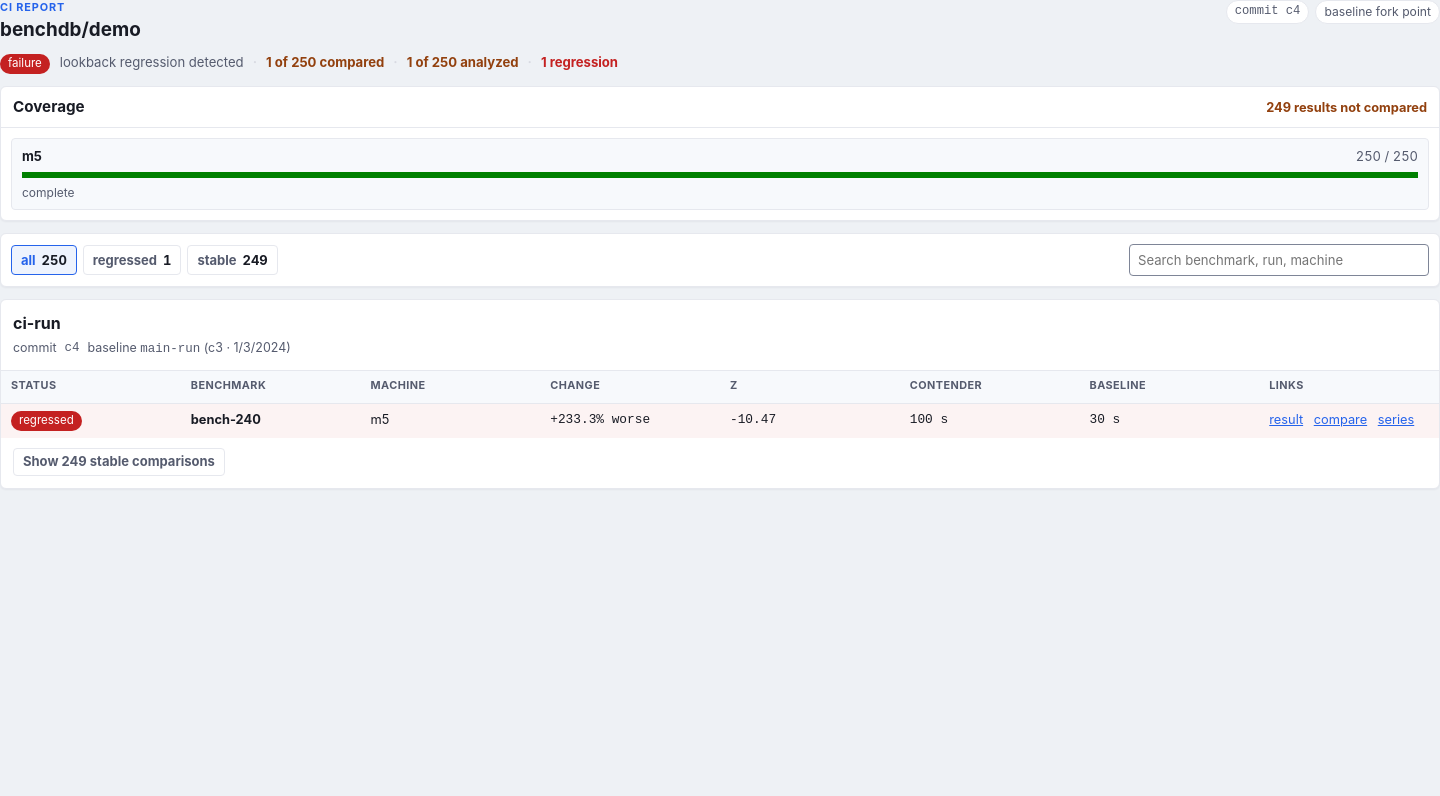
Scenario: CIReportPage › lists a regression first and collapses stable rows behind a toggle
The width and height of the screenshot is (1440, 796).
Click the button "Show 249 stable comparisons" at (119, 462), box x1=13 y1=448 x2=225 y2=476
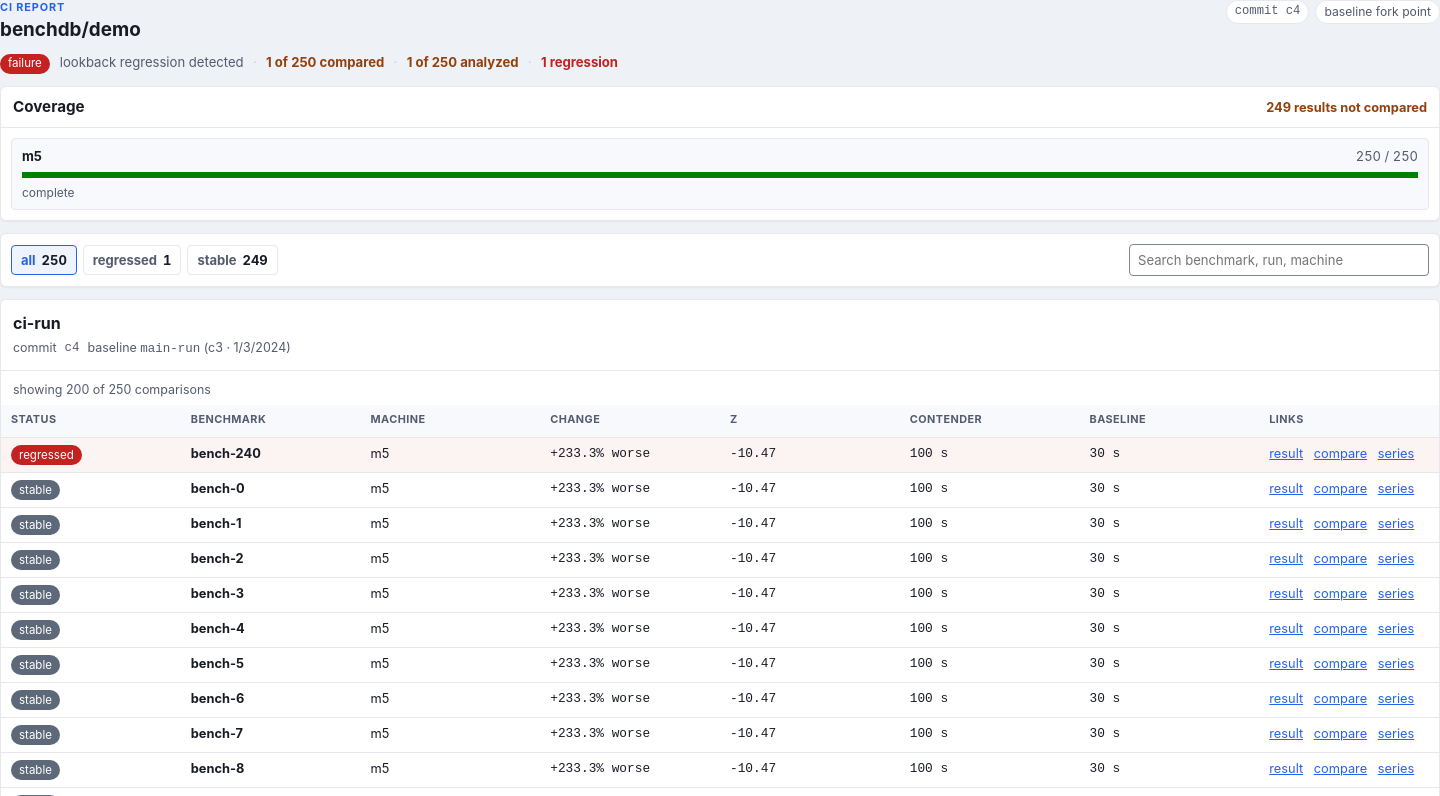
Result: the text "showing 200 of 250 comparisons" is shown at x1=13 y1=382 x2=211 y2=397
Result: the button "stable comparisons" is gone
